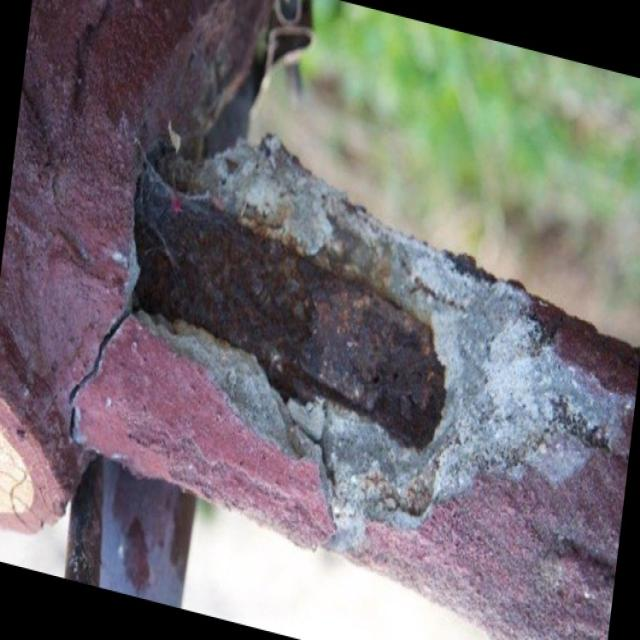rust: (105, 132, 470, 474)
